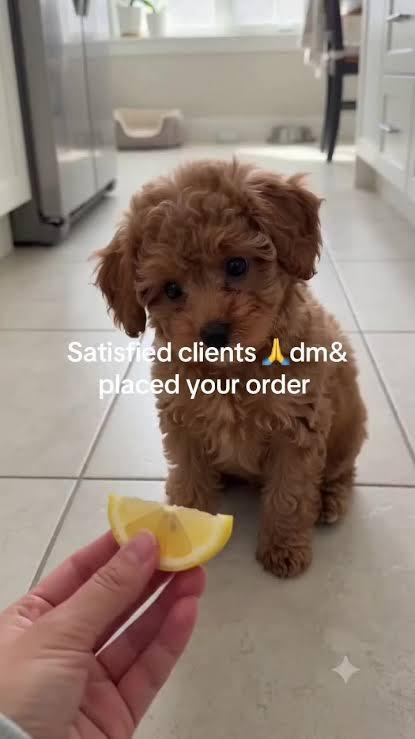puppy-dog: (90, 159, 369, 579)
